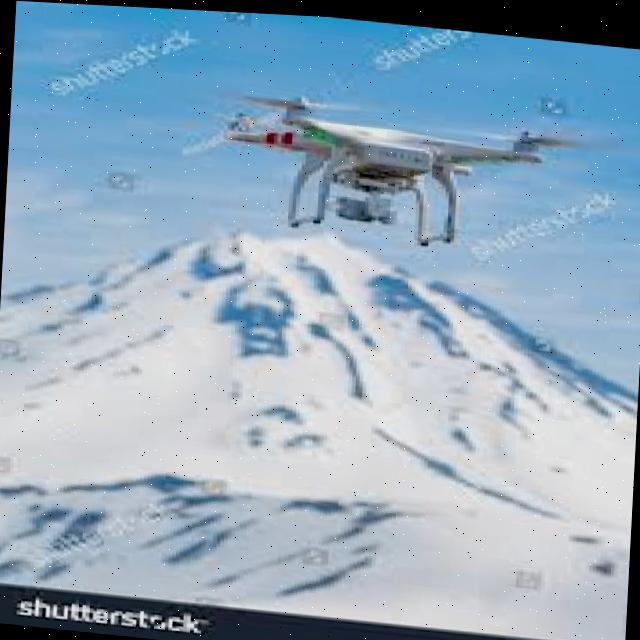drone: (182, 68, 590, 265)
